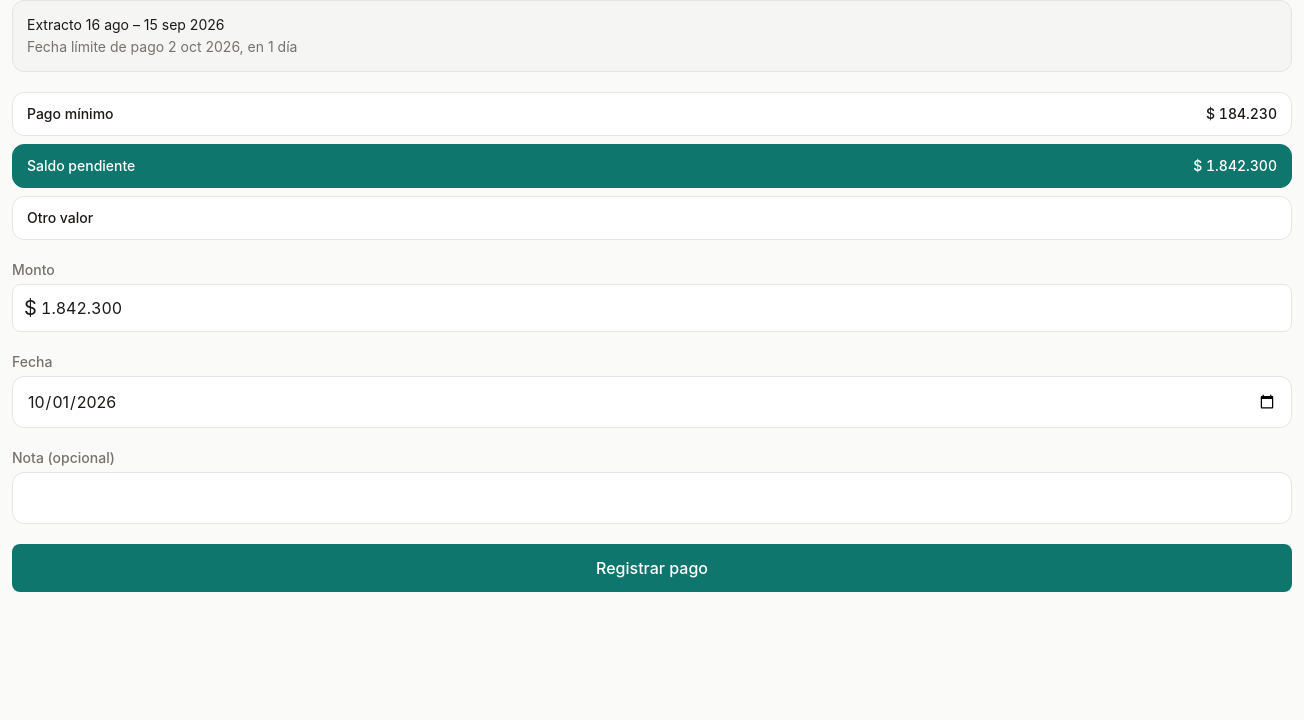
PaymentForm › clears the amount for another value and keeps submit disabled at zero
Click the radio button labelled "Otro valor" at x=60, y=218, box [12, 196, 1292, 240]
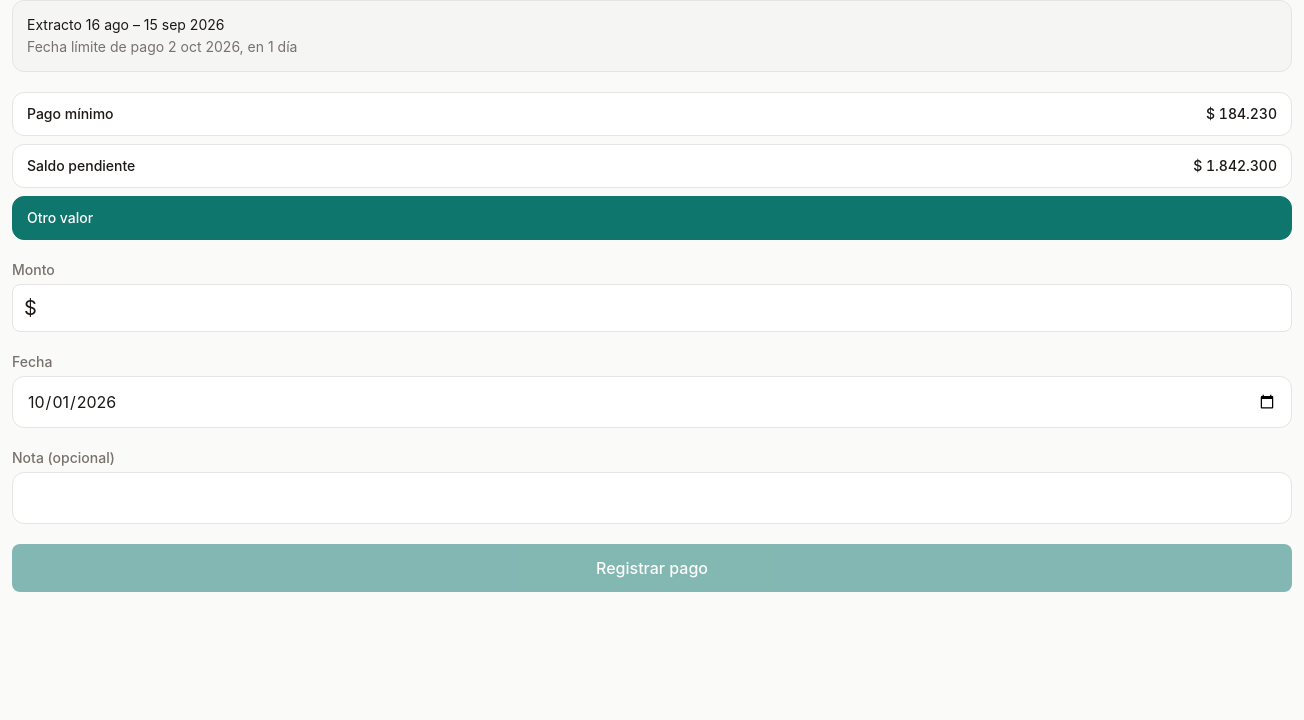
Now the field labelled "Monto" is empty
Now the button "Registrar pago" is disabled, box [12, 544, 1292, 592]
Type "90.000" into the field labelled "Monto" at x=652, y=308, box [12, 284, 1292, 332]
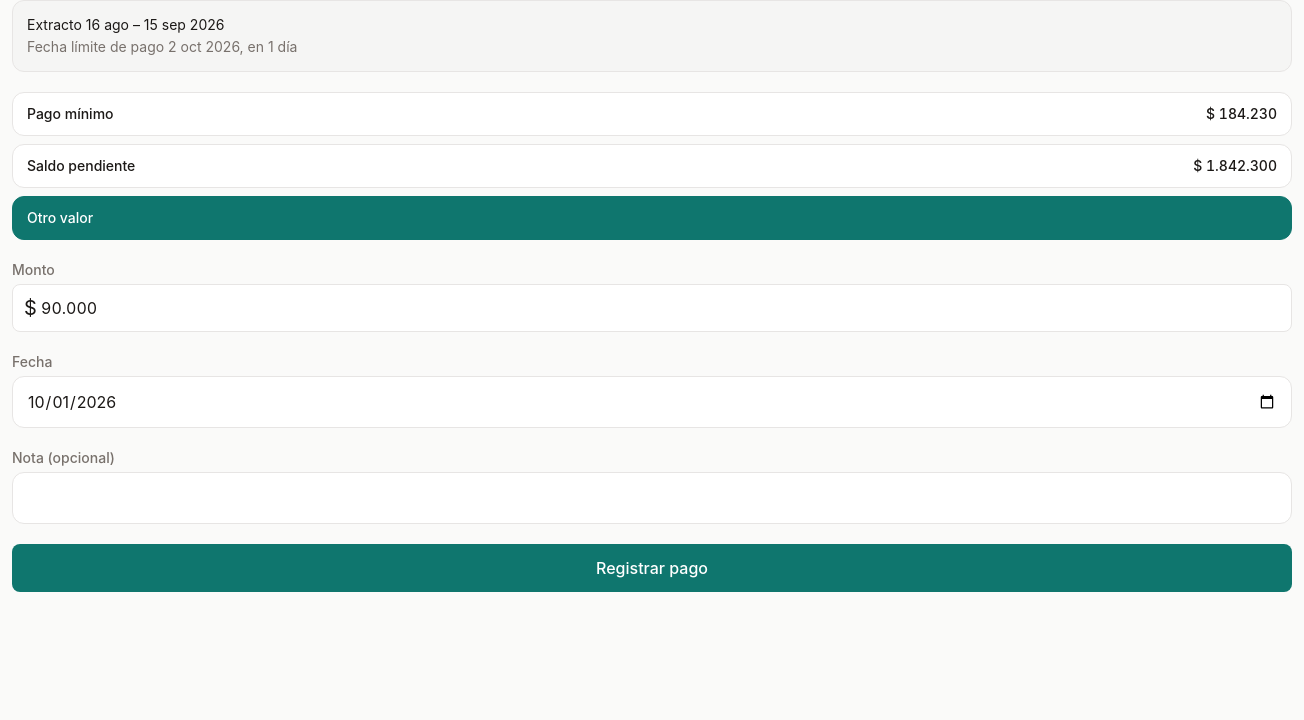
Now the button "Registrar pago" is enabled, box [12, 544, 1292, 592]
